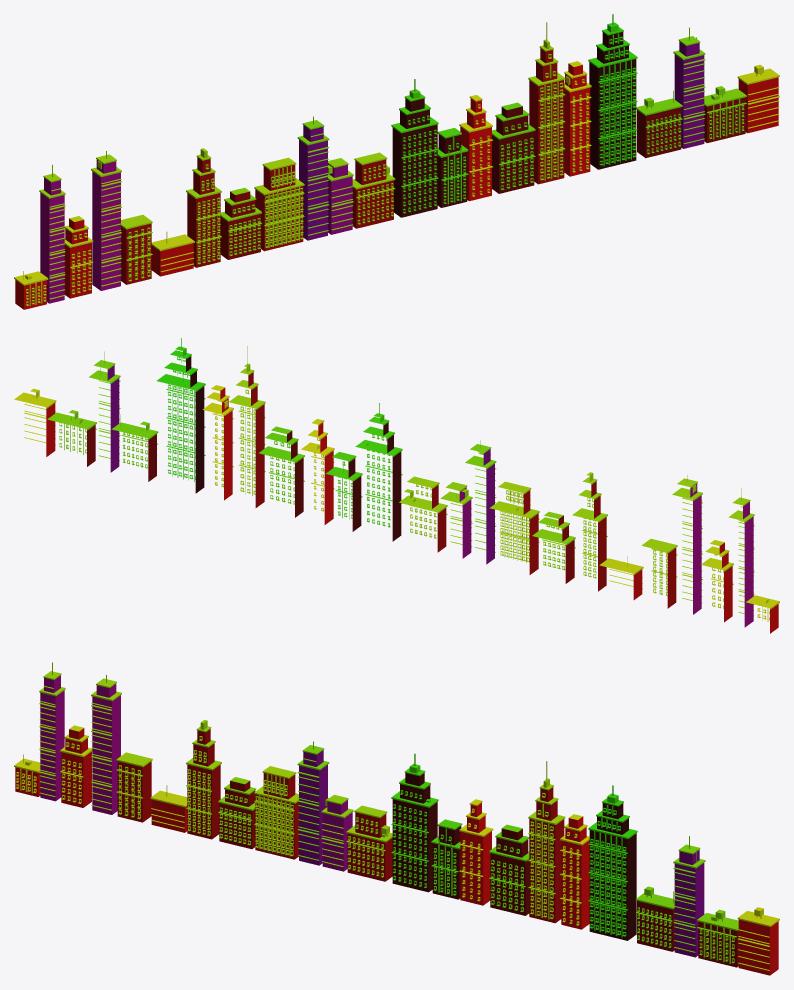
File: skyline_near.glb
3 renders of one model, top to bottom at view 1: azimuth 30°, elevation 25°; view 2: azimuth 150°, elevation 25°; view 3: azimuth 330°, elevation 25°, orthographic.
Parts seen in each view (by area): view 1: skyline_near_496559; view 2: skyline_near_496559; view 3: skyline_near_496559.
Part boxes in pixels (<box>): skyline_near_496559: <box>14,14,779,309</box>; skyline_near_496559: <box>14,338,779,633</box>; skyline_near_496559: <box>14,662,779,975</box>.
Bounding box in the file's own units: 248 × 48.89 × 5.98.
